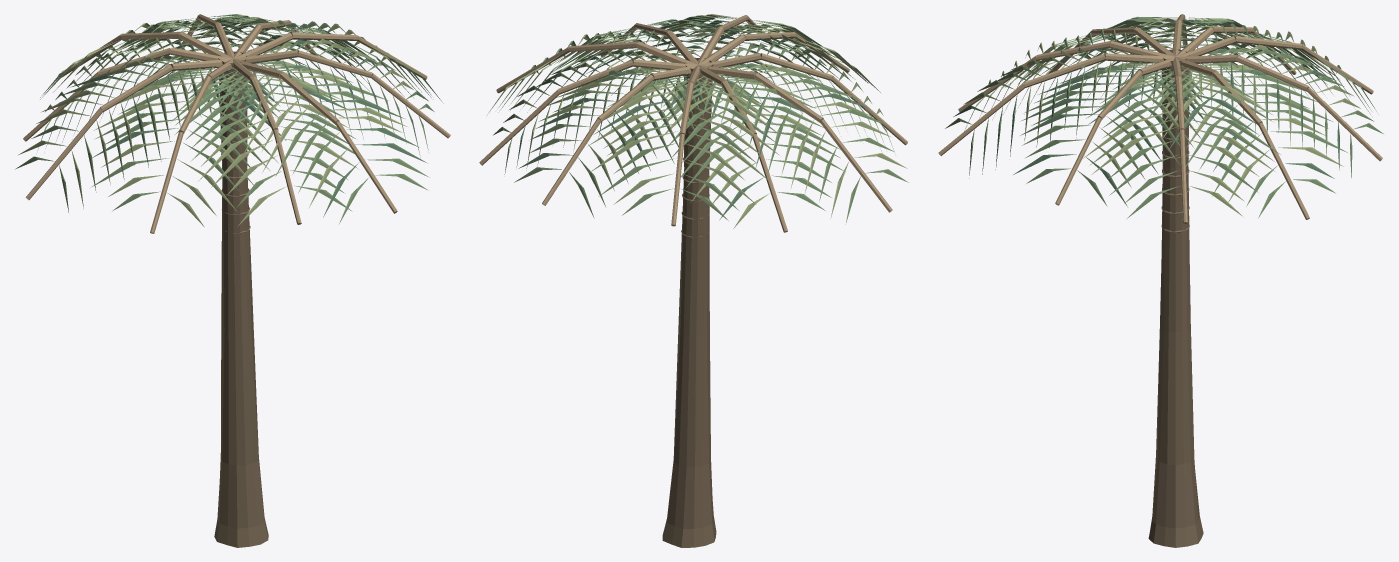
File: palm_tree_a.glb
3 renders of one model, left to right at view 1: azimuth 30°, elevation 25°; view 2: azimuth 150°, elevation 25°; view 3: azimuth 270°, elevation 25°, orthographic.
Visible parts, largest first — view 1: palm_tree_a LOD0; view 2: palm_tree_a LOD0; view 3: palm_tree_a LOD0.
Boxes of the visible parts, bbox=[...] form: palm_tree_a LOD0: bbox=[15, 14, 450, 547]; palm_tree_a LOD0: bbox=[479, 14, 908, 547]; palm_tree_a LOD0: bbox=[938, 14, 1383, 547].
Size of what is drawn, in the model's own units: 7.98 by 9.32 by 7.77.
